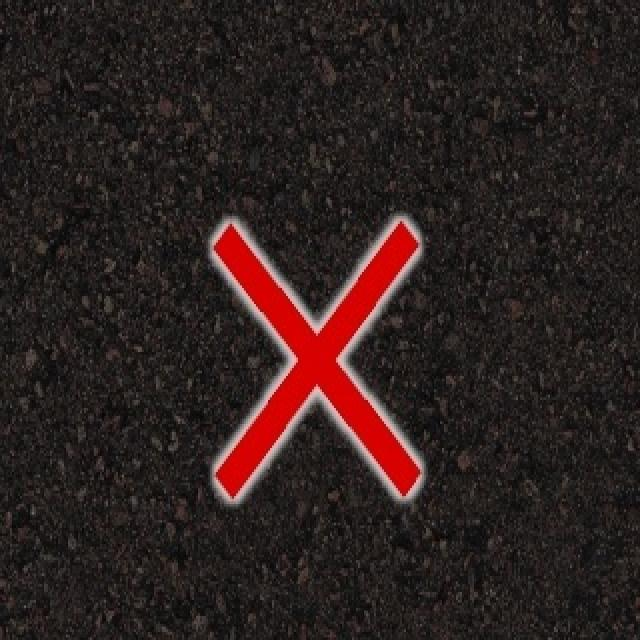x_marker: (213, 220, 419, 497)
